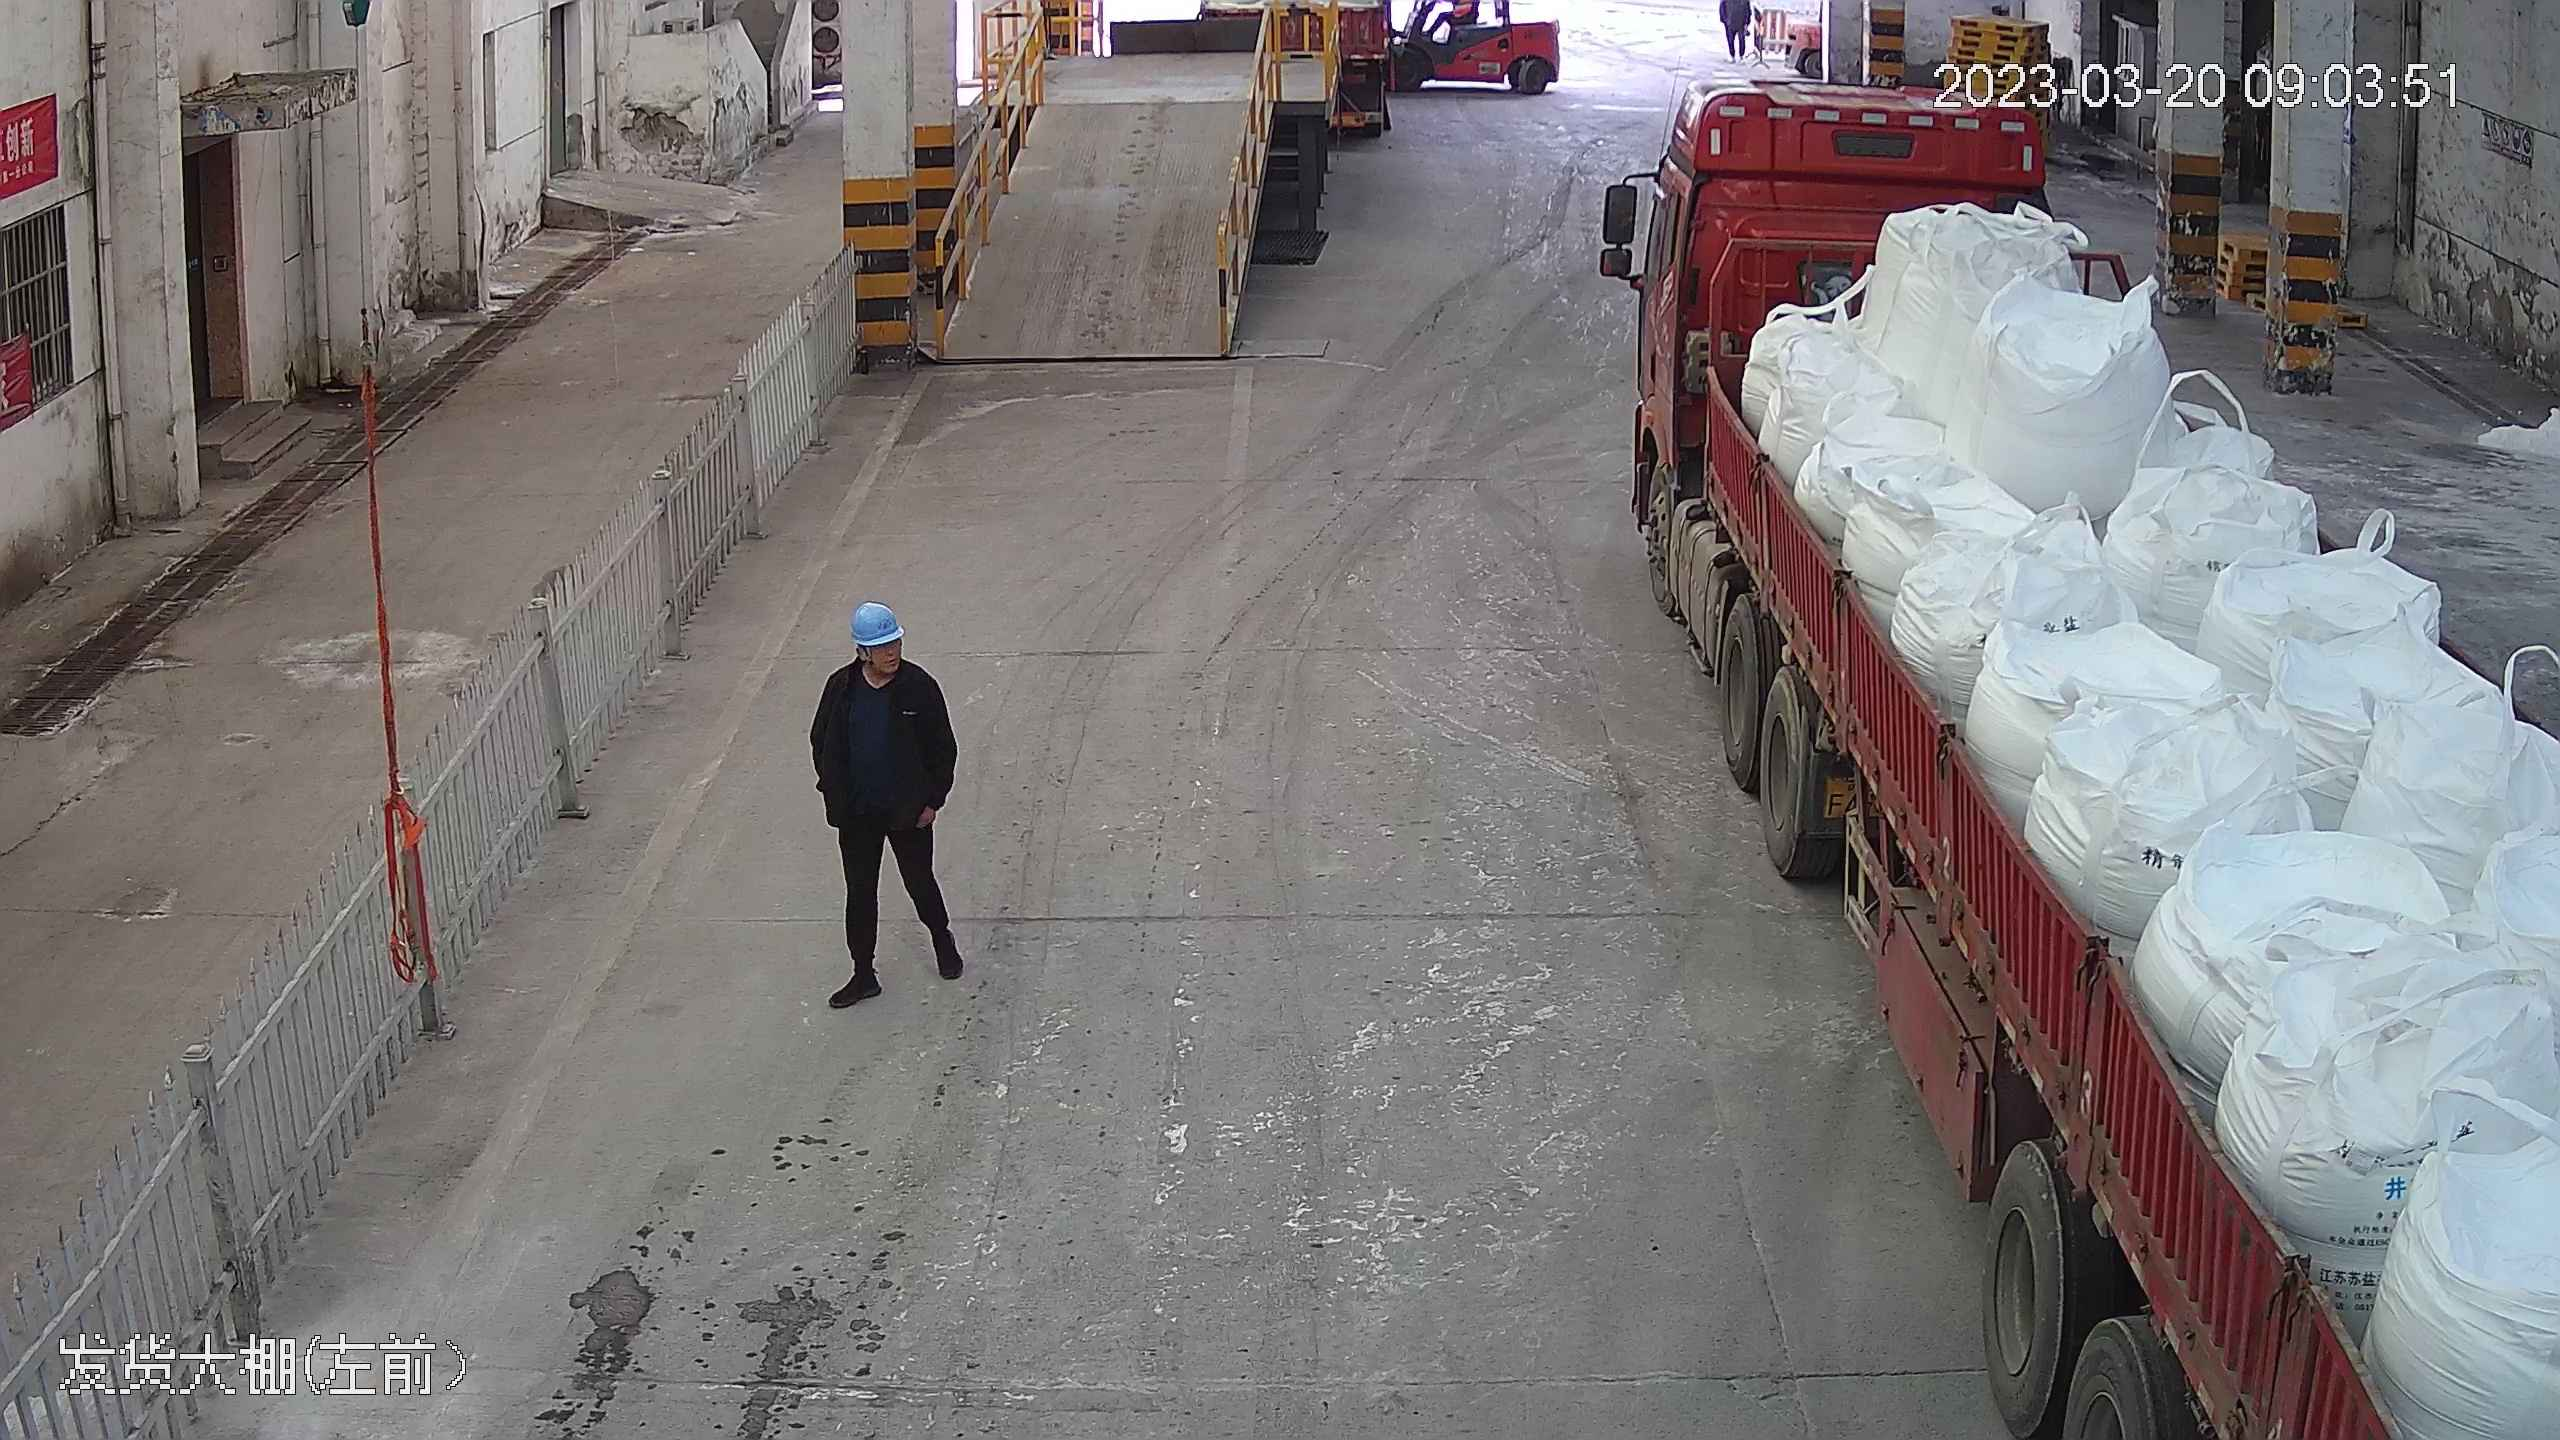head: (819, 599, 943, 717)
helmet: (846, 597, 905, 649)
people: (807, 594, 972, 1005)
truck: (1597, 41, 2560, 1440)
